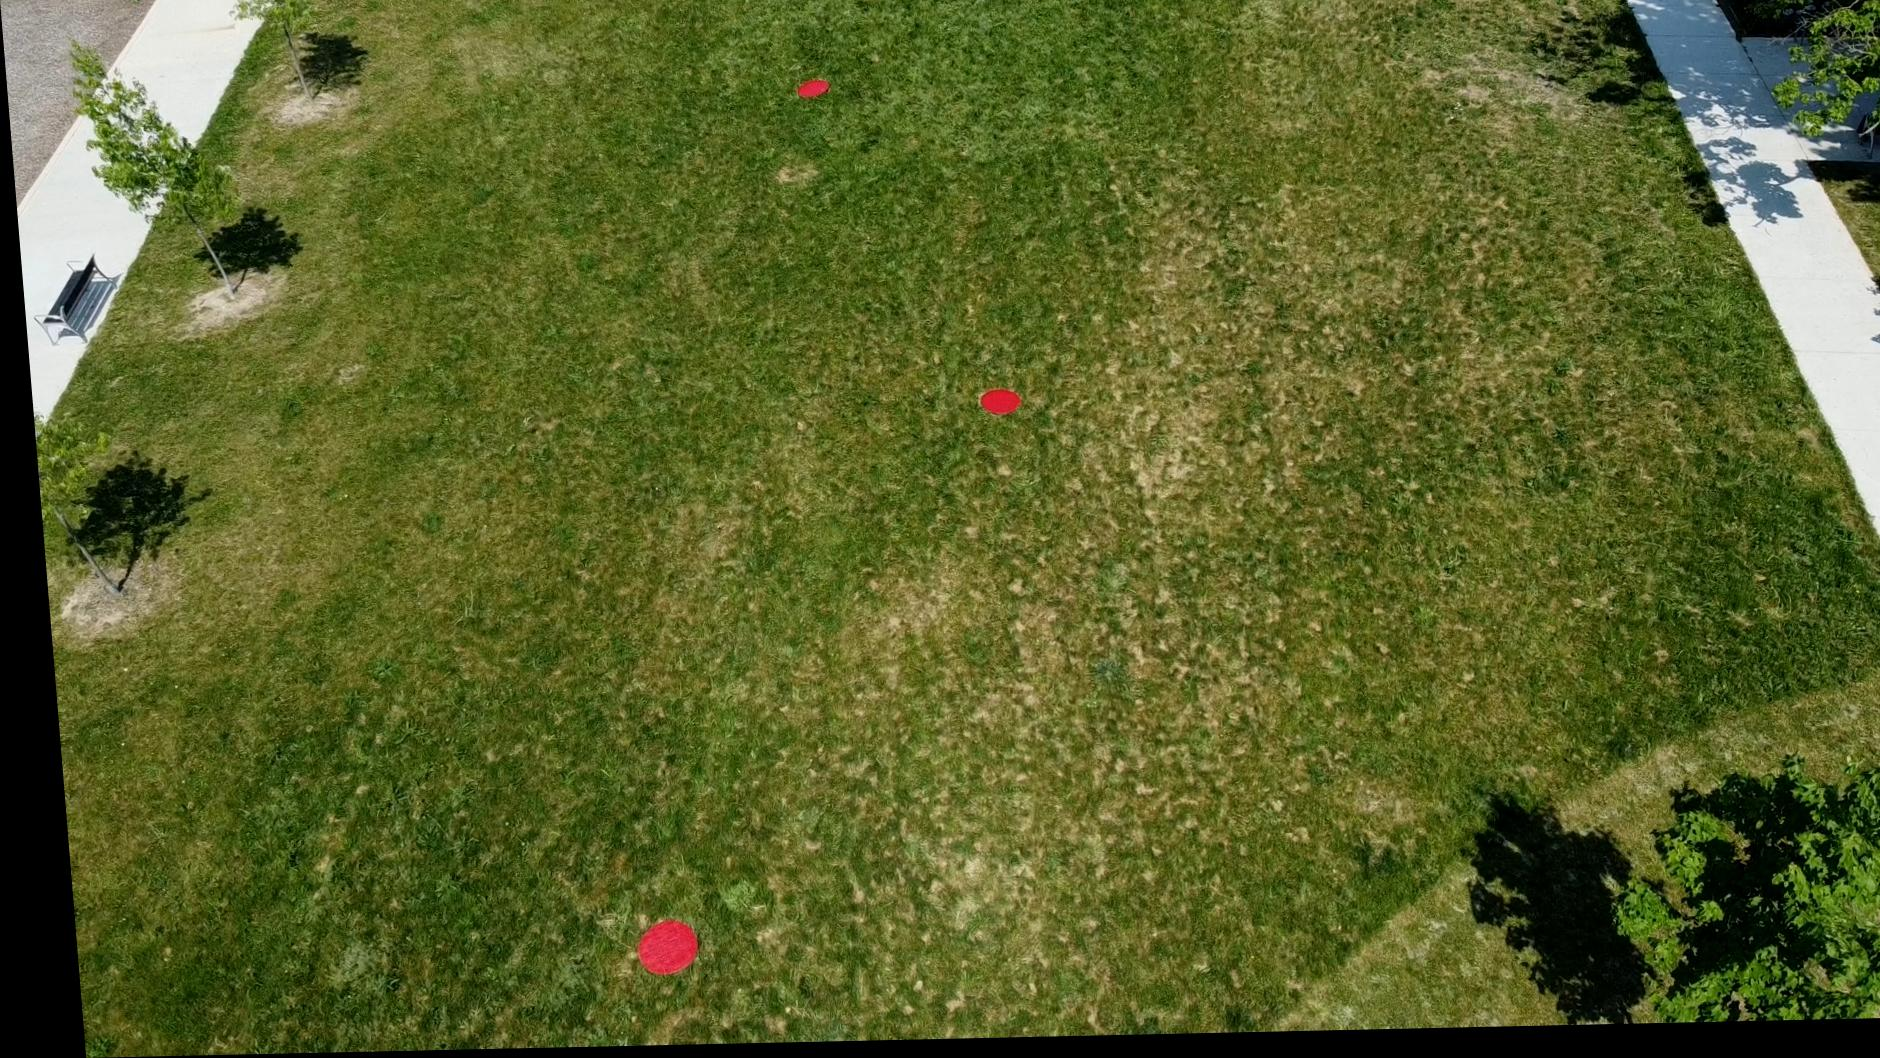Red: (617, 921, 686, 982), (970, 389, 1016, 422), (790, 81, 833, 103)
